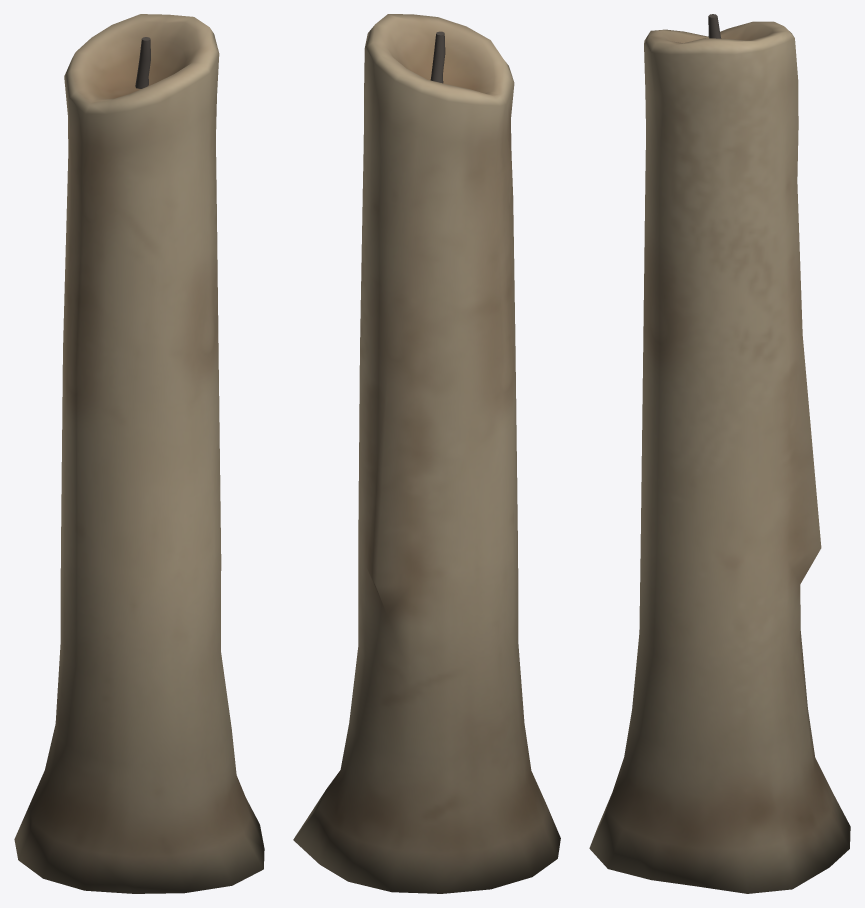
Rendered from SM_candleA_a1.fbx.
The picture shows the model from 3 angles, left to right: view 1: azimuth 30°, elevation 25°; view 2: azimuth 150°, elevation 25°; view 3: azimuth 270°, elevation 25°; orthographic projection.
Parts seen in each view (by area): view 1: SM_candleA_a1_LOD0; view 2: SM_candleA_a1_LOD0; view 3: SM_candleA_a1_LOD0.
Boxes of the visible parts, bbox=[...] form: SM_candleA_a1_LOD0: bbox=[14, 14, 264, 893]; SM_candleA_a1_LOD0: bbox=[293, 14, 560, 893]; SM_candleA_a1_LOD0: bbox=[589, 14, 850, 893].
Size of the model in its own units: 8.29 by 8.07 by 28.04.
Materials: 1 (1 with a texture image).
